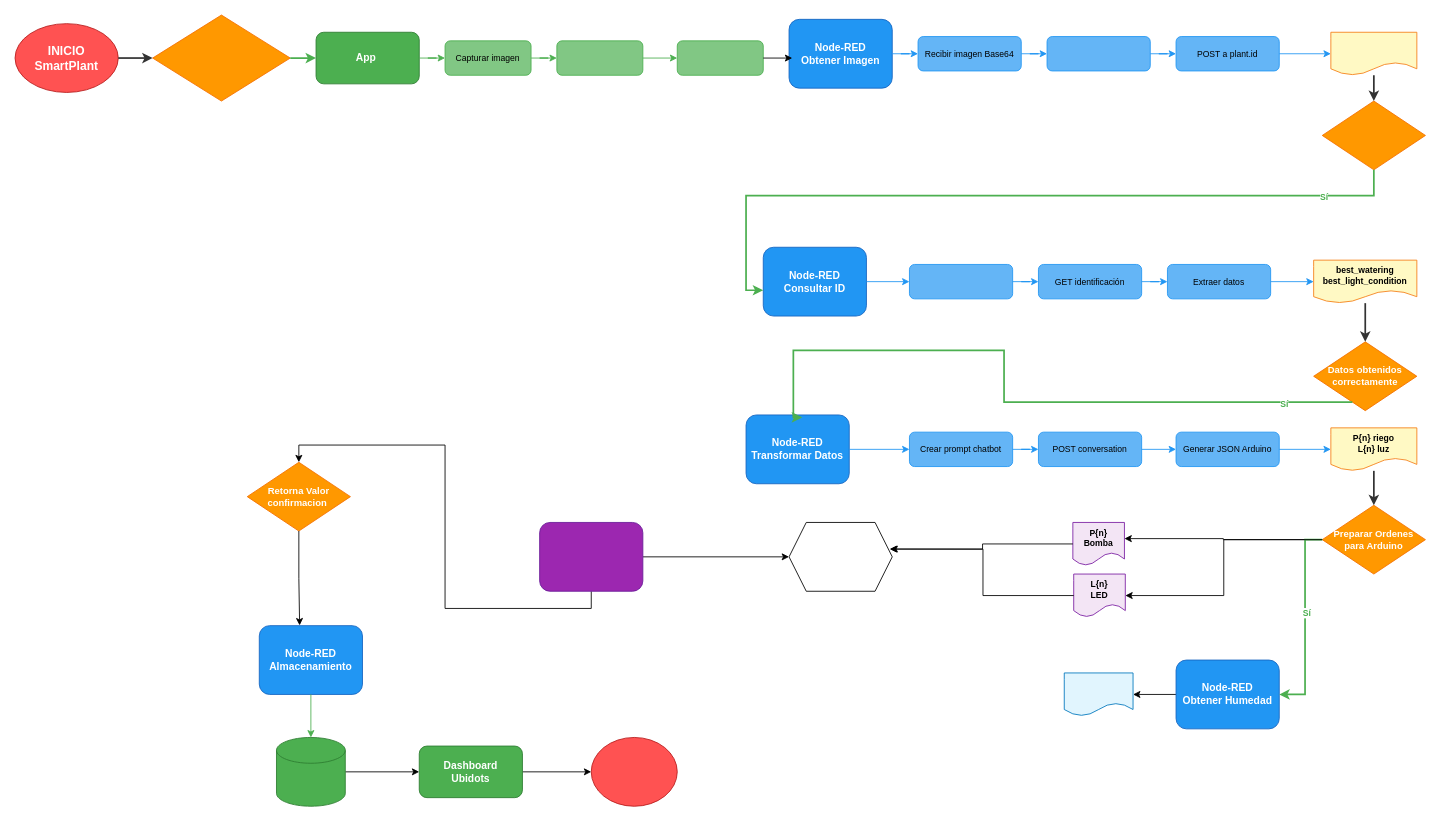
Some shapes in this 1441 by 821 pixel diagram are drawn without their labels. The shapes that lost their labels are listed below. From the top down, each one's box as (x1, y1, x2, y2) in pixels, then its label:
(152, 14, 290, 101): Seleccionar origen de imagen
(556, 40, 643, 75): Convertir a Base64
(676, 40, 763, 75): Enviar a Node-RED
(1046, 36, 1150, 71): Agregar API Key
(1330, 31, 1417, 75): access_token
(1321, 100, 1425, 170): Identificación exitosa
(909, 264, 1013, 299): Usar access_token
(539, 522, 643, 591): ARDUINO
(1063, 672, 1133, 716): Comando S - Sensor
(276, 737, 345, 806): UBIDOTS
(590, 737, 677, 806): FIN
